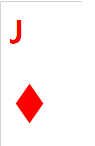card_j_diamond: (1, 4, 81, 144)
